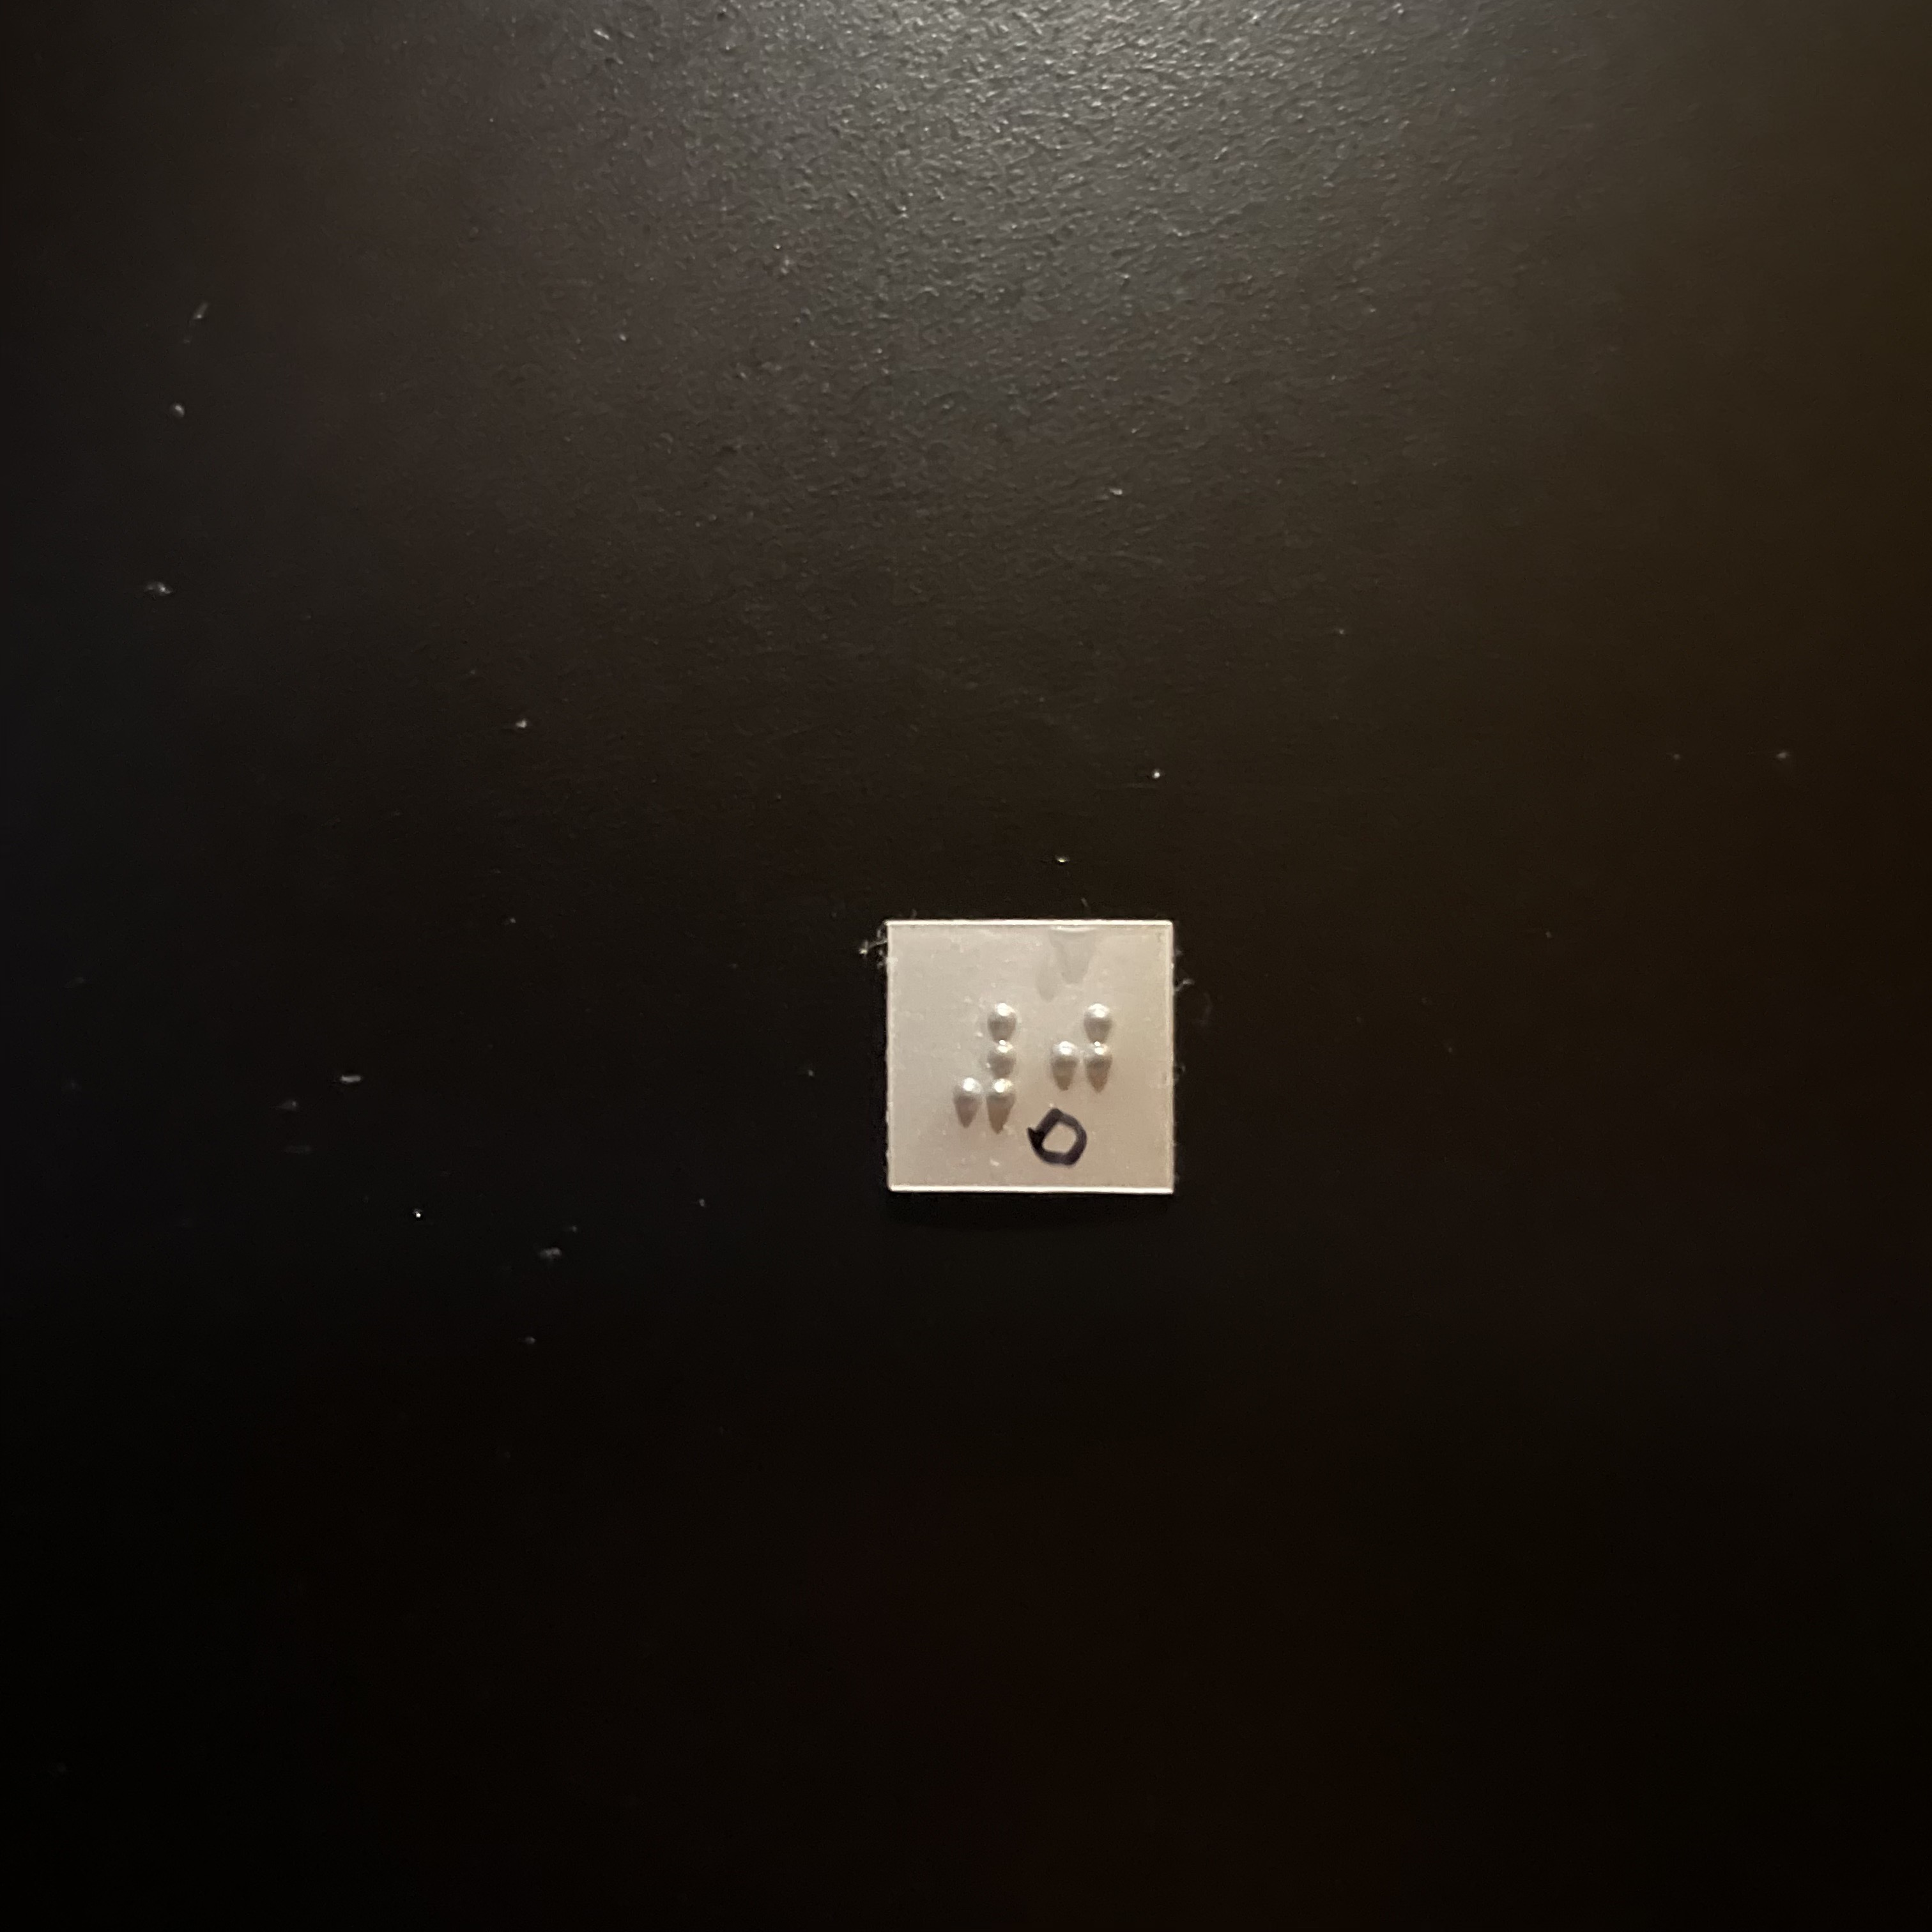#: (950, 998, 1029, 1138)
j: (1043, 998, 1122, 1141)
